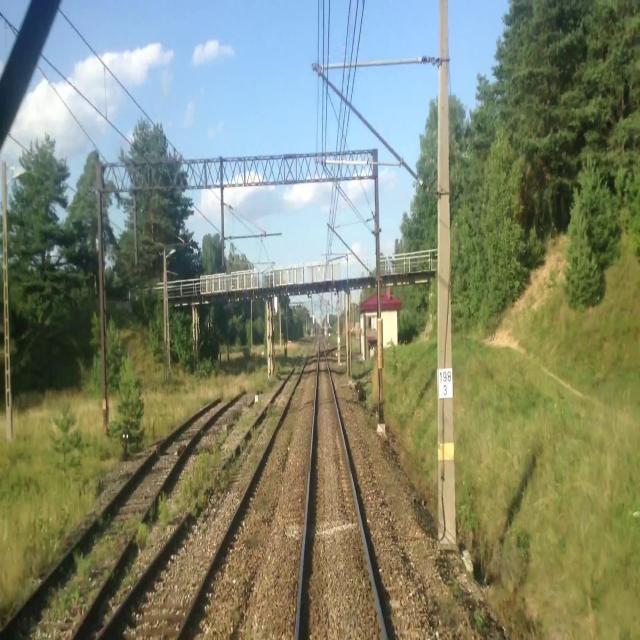rail-track: (299, 354, 383, 639)
